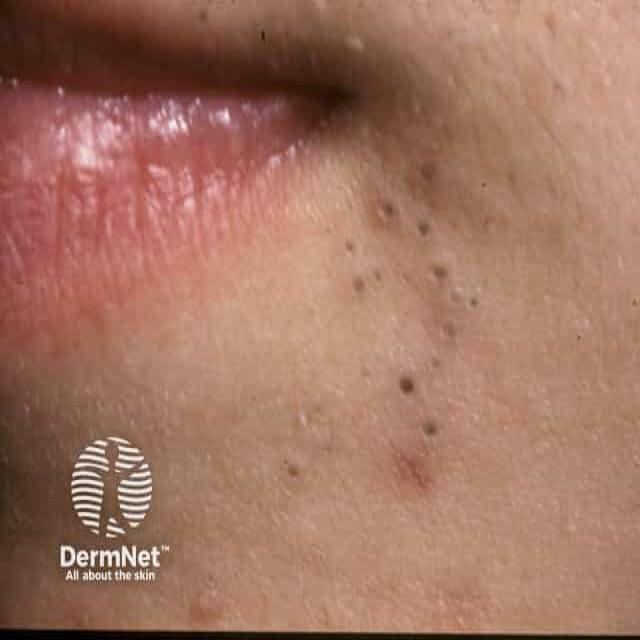Acne: (315, 187, 480, 488)
